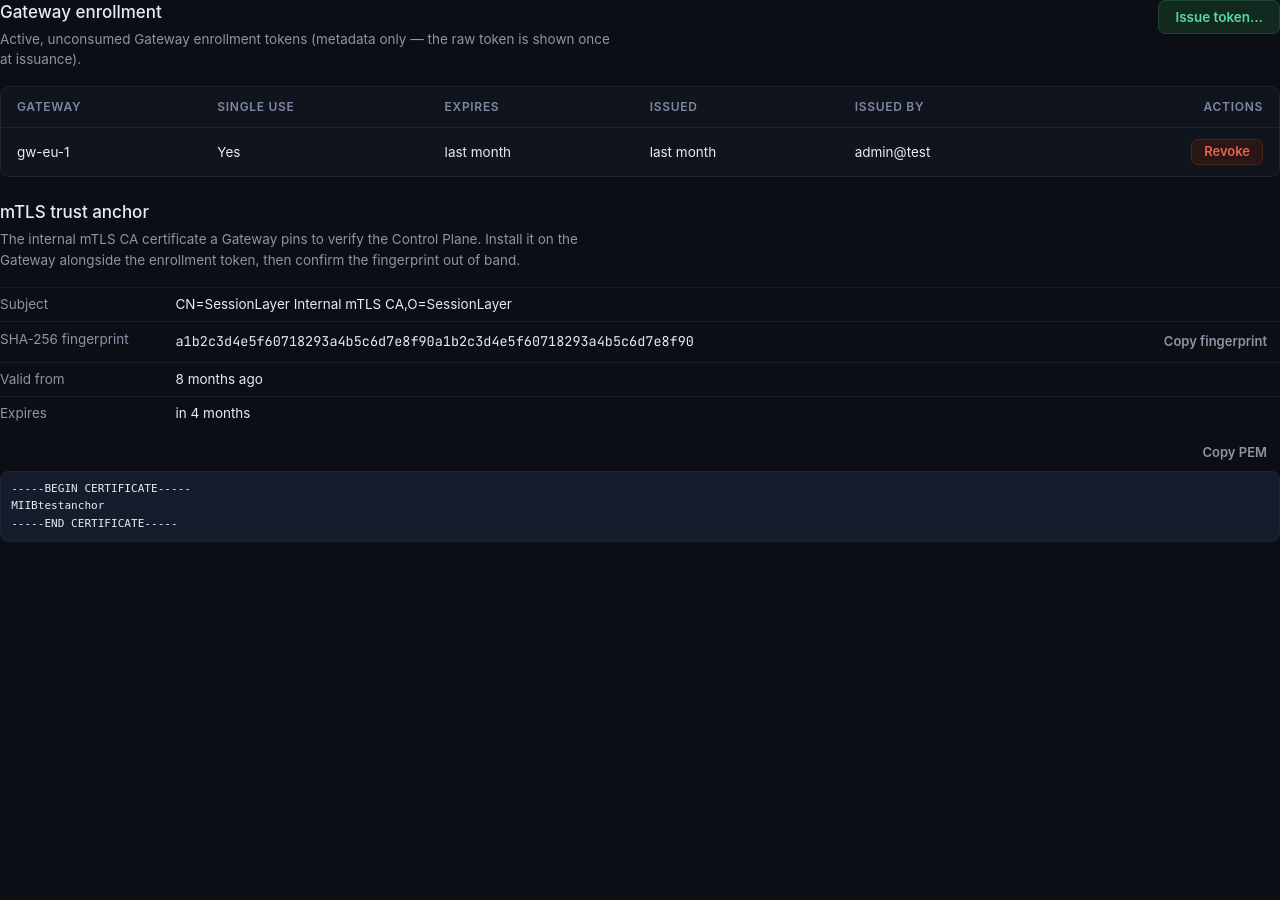
it: GatewayEnrollmentTokenList › never renders the raw token outside the issuance dialog
Check: the text "gw-eu-1" is shown, box [1,128,201,176]
Click the button "Issue token…": point(1219, 17) [1158,0,1279,34]
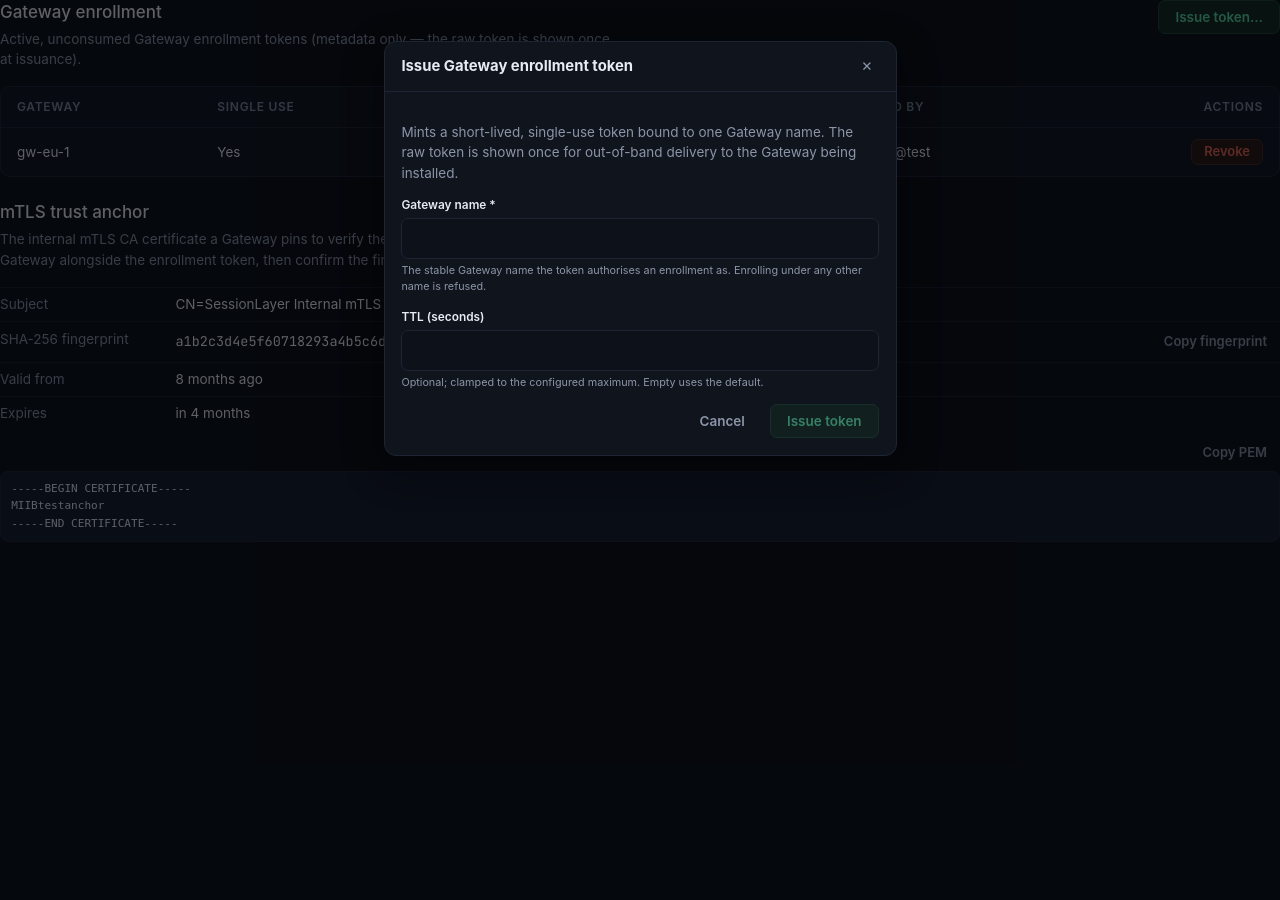
In the field labelled "Gateway name *": point(640, 238) [401,218,879,259], type "gw-us-2"
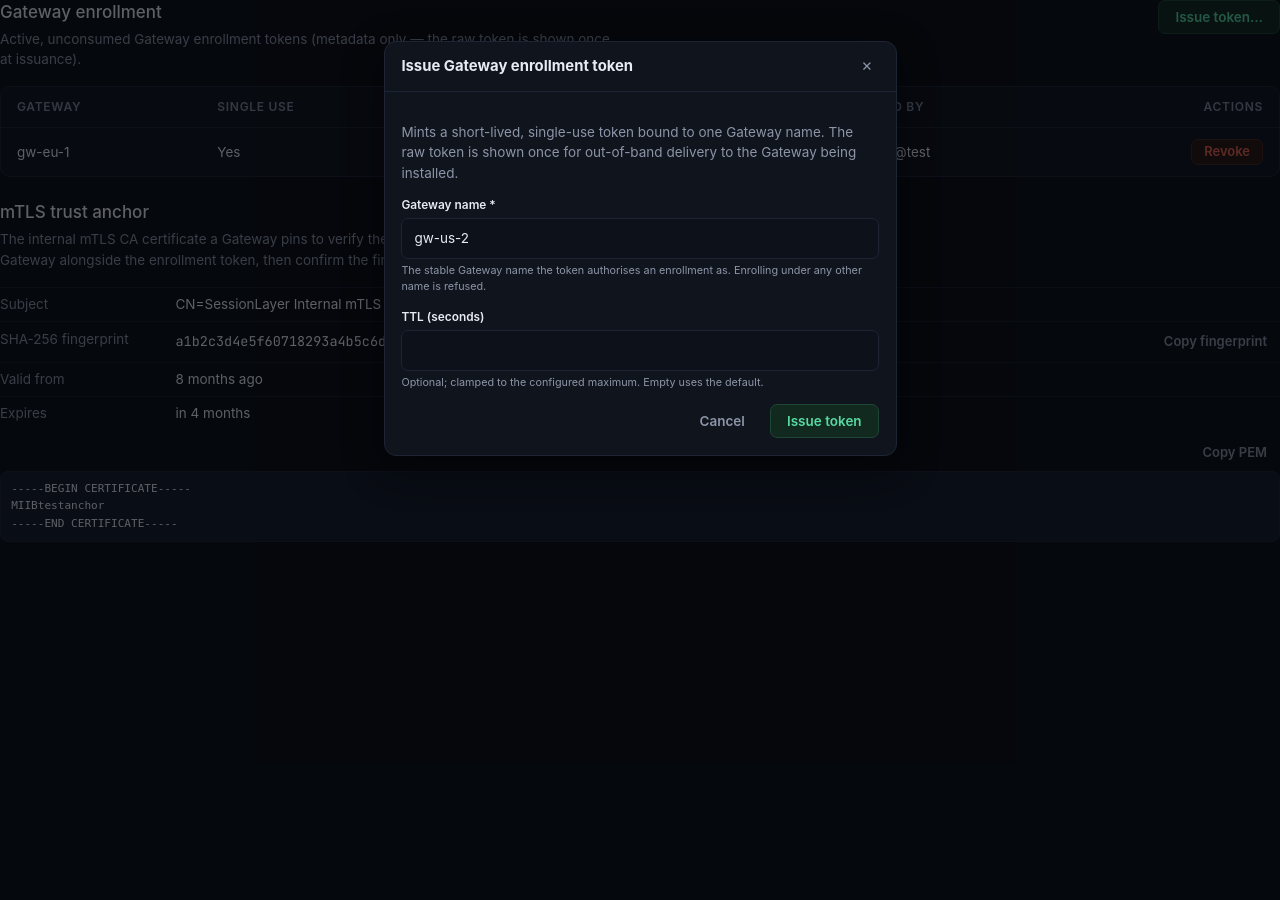
Click the button "Issue token": point(824, 421) [770,404,879,438]
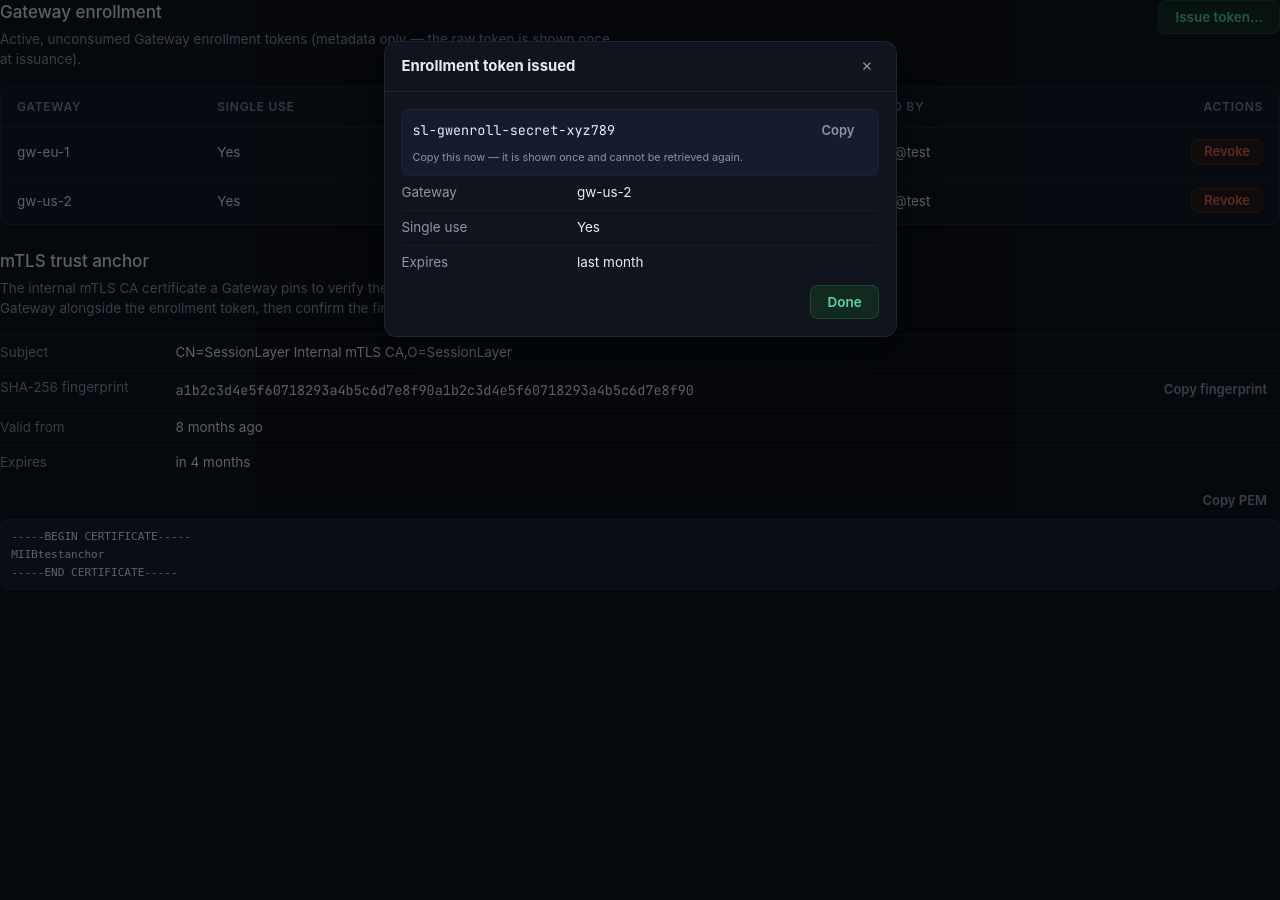
Check: the text "sl-gwenroll-secret-xyz789" is shown, box [412,121,615,139]
Click the button "Done": point(844, 302) [810,285,879,319]
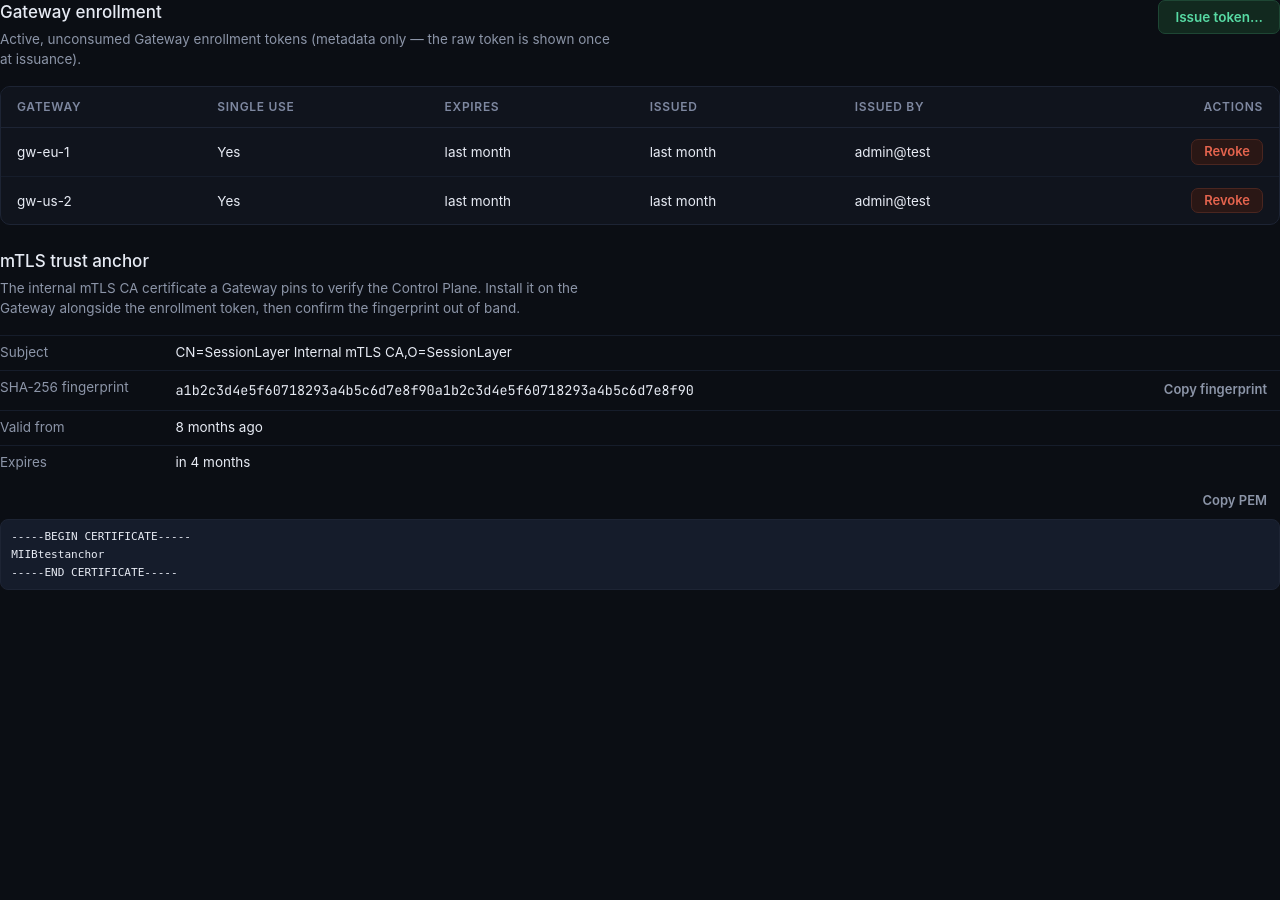
Check: the text "gw-us-2" is shown, box [1,176,201,224]
Check: the text "sl-gwenroll-secret-xyz789" is gone
